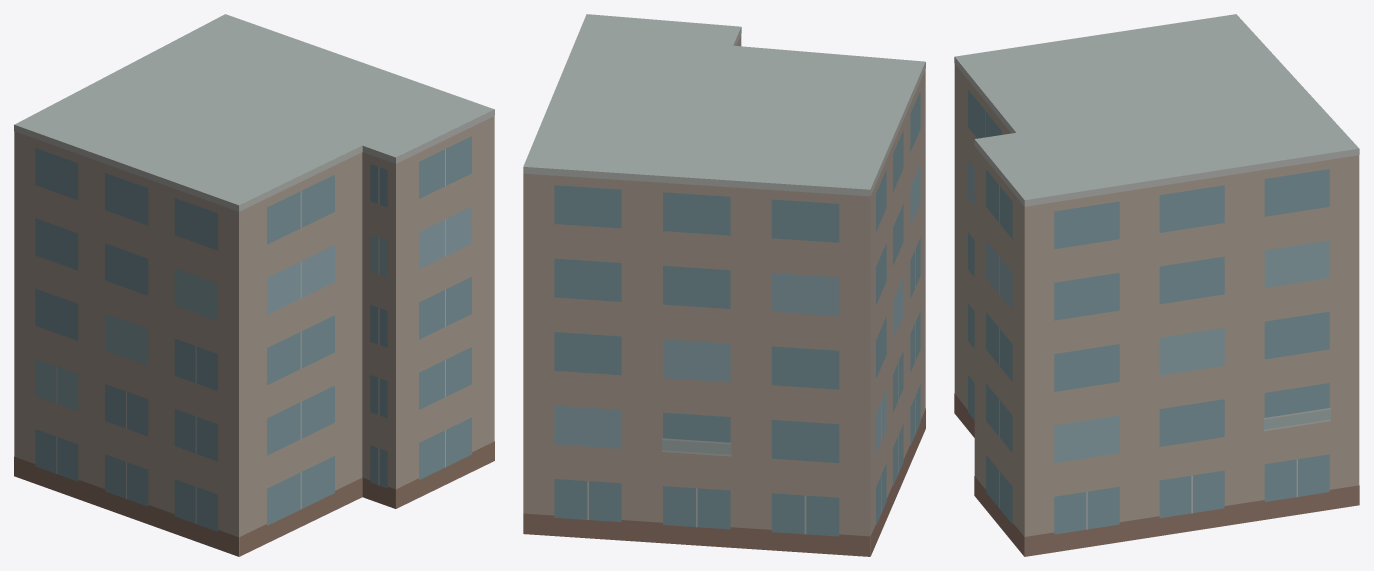
The model's file is survey-upis-32853629.glb.
3 renders of one model, left to right at view 1: azimuth 30°, elevation 25°; view 2: azimuth 150°, elevation 25°; view 3: azimuth 270°, elevation 25°, orthographic. The views are drawn at different scales.
Visible parts, largest first — view 1: survey-upis-32853629.tmp; view 2: survey-upis-32853629.tmp; view 3: survey-upis-32853629.tmp.
Part boxes in pixels (x1,y1,x2,y2): survey-upis-32853629.tmp: (14, 14, 494, 556); survey-upis-32853629.tmp: (523, 14, 925, 556); survey-upis-32853629.tmp: (954, 14, 1359, 556).
Size of the model in its own units: 14.85 by 13.25 by 13.64.
